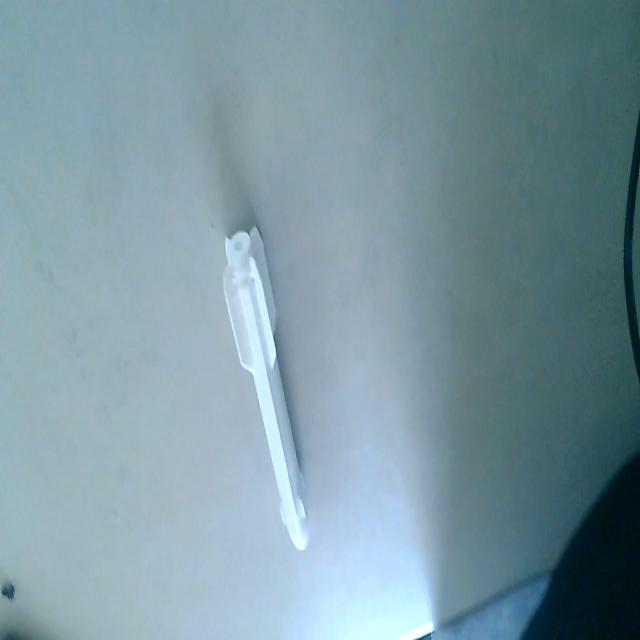Rocket: (220, 224, 311, 559)
